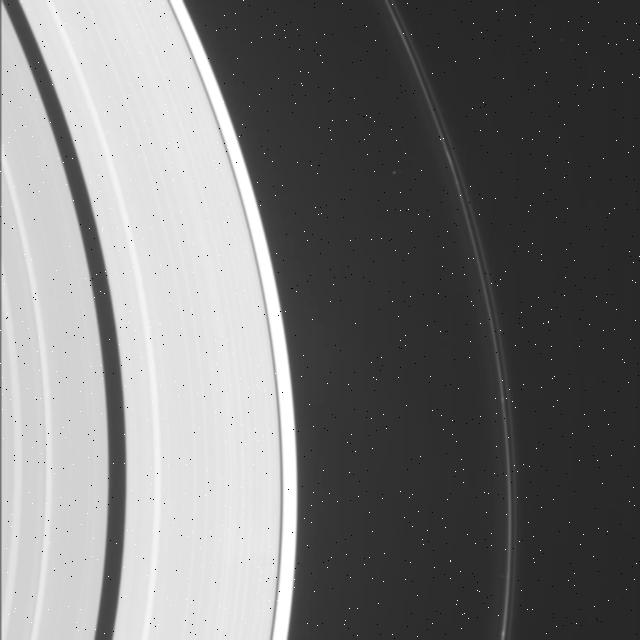Saturn: (1, 0, 518, 640)
